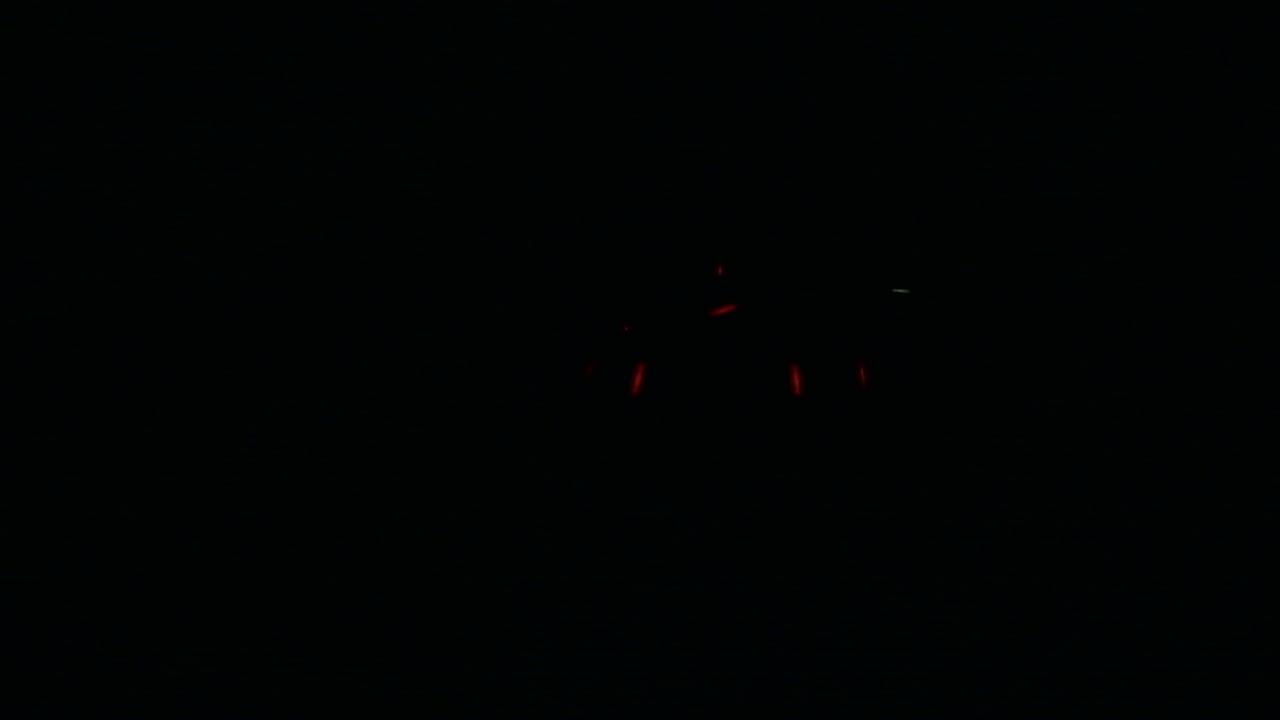lamp: (623, 361, 647, 399), (787, 361, 809, 400)
notpair1: (624, 362, 809, 401)
